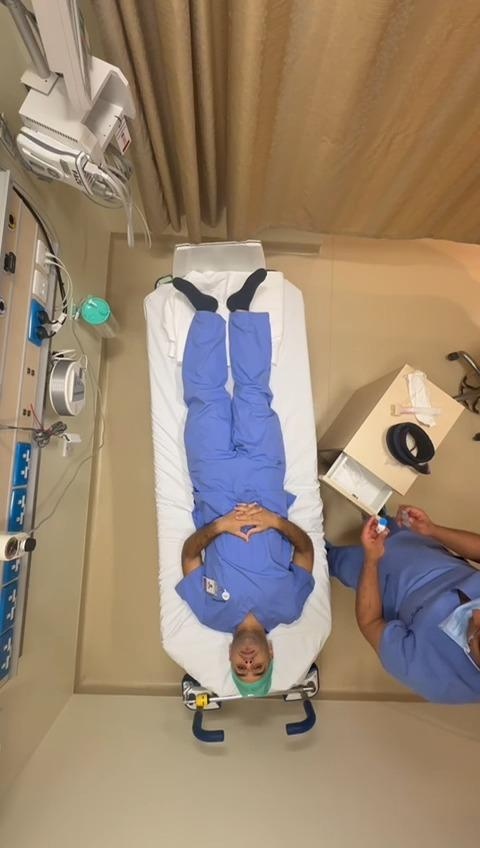bed: (144, 242, 331, 742)
cefazolin: (376, 515, 388, 532)
patient: (172, 268, 315, 693)
tourniquet: (386, 422, 436, 474)
